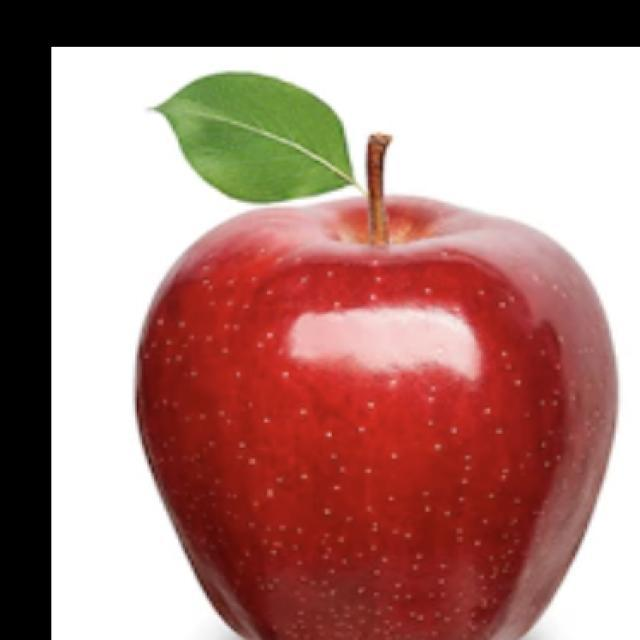Fresh Apple: (134, 182, 620, 640)
